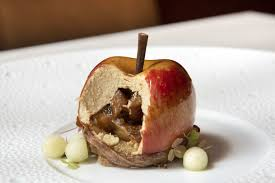damaged_apple: (77, 54, 202, 164)
